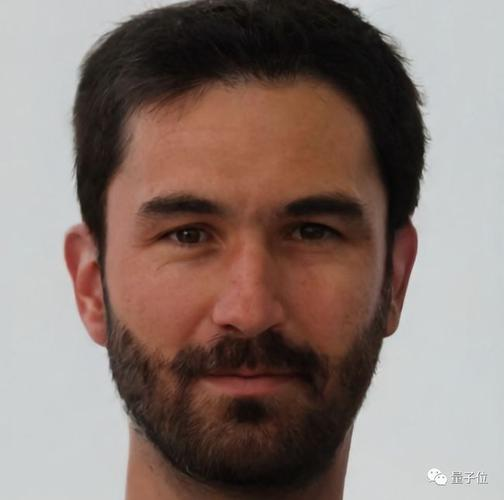no_mask: (111, 66, 406, 480)
